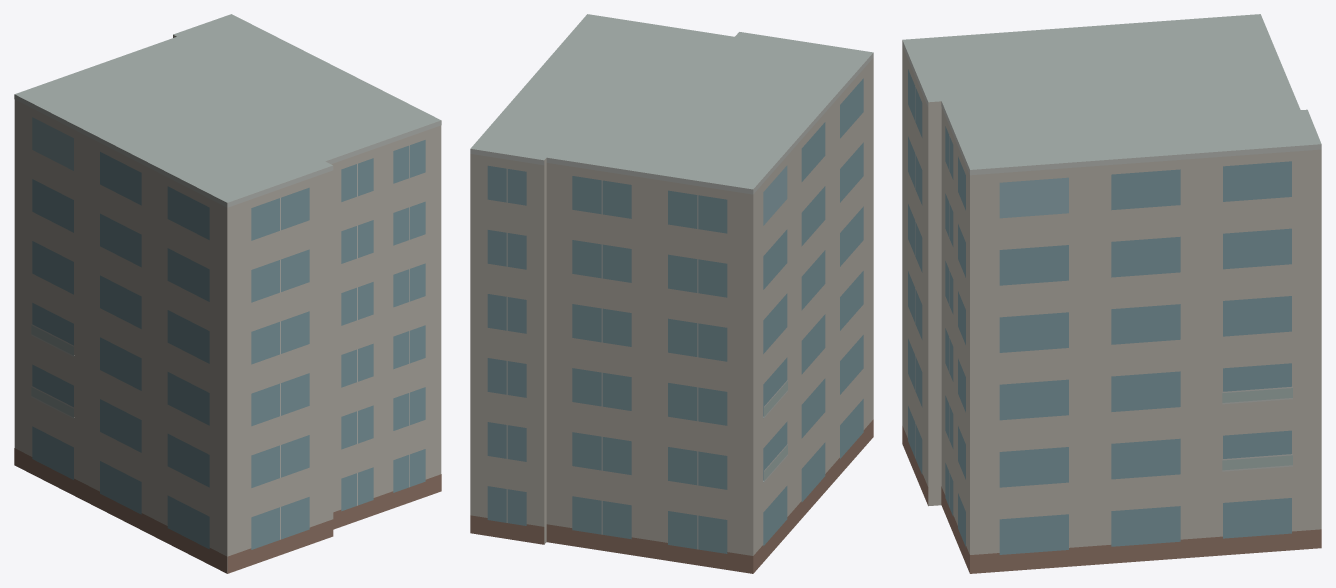
Rendered from survey-upis-32748007.glb.
The picture shows the model from 3 angles, left to right: view 1: azimuth 30°, elevation 25°; view 2: azimuth 150°, elevation 25°; view 3: azimuth 270°, elevation 25°; orthographic projection. The views are drawn at different scales.
Visible parts, largest first — view 1: survey-upis-32748007.tmp; view 2: survey-upis-32748007.tmp; view 3: survey-upis-32748007.tmp.
Boxes of the visible parts, x1,y1,x2,y2 form: survey-upis-32748007.tmp: (14, 14, 441, 573); survey-upis-32748007.tmp: (470, 14, 873, 573); survey-upis-32748007.tmp: (902, 14, 1321, 573).
Size of the model in its own units: 15.33 by 18.5 by 17.42.
